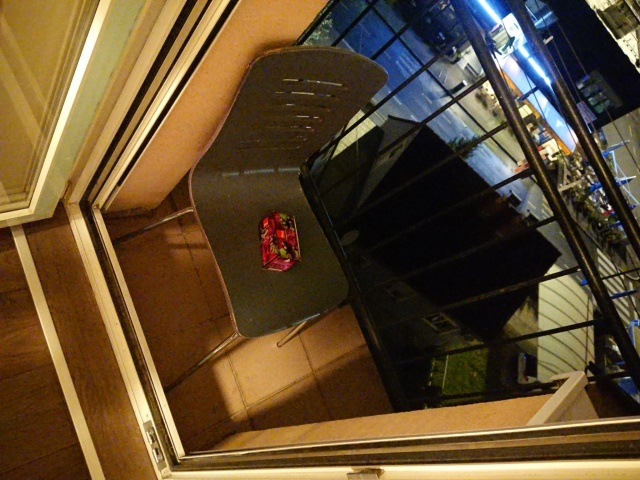Franck Black Currant Tea 60g: (256, 209, 303, 274)
